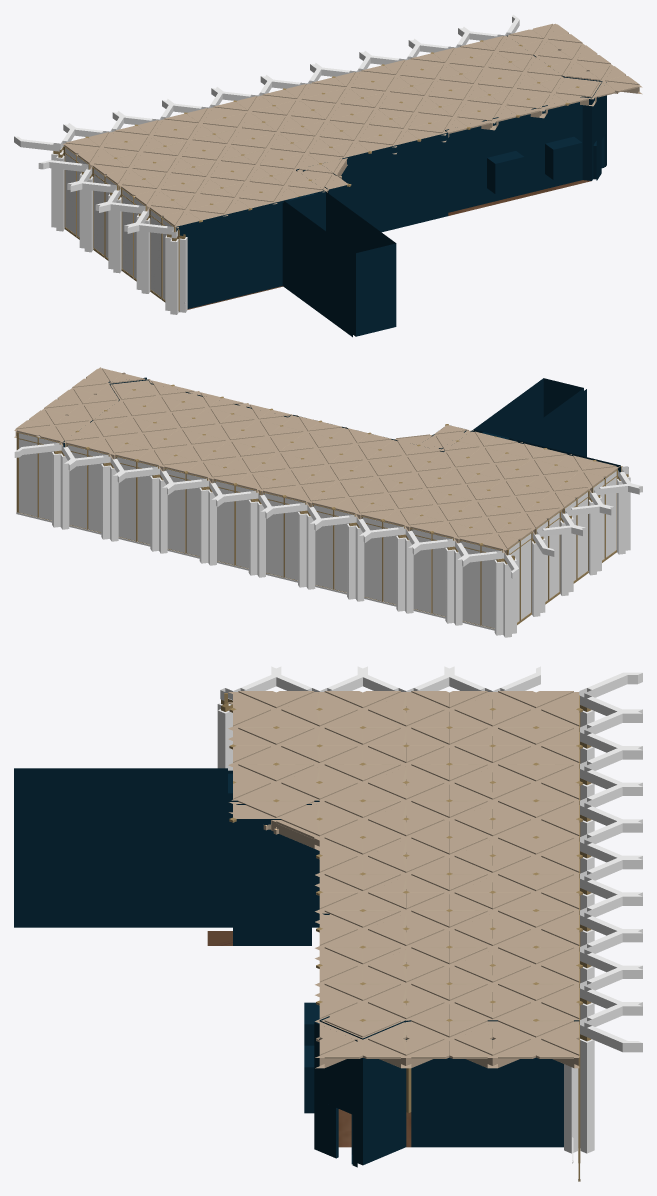
Rendered from ChanceryRosewood-Pavilion-V1.glb.
3 views of the same model, one above another, from view 1: azimuth 30°, elevation 25°; view 2: azimuth 150°, elevation 25°; view 3: azimuth 270°, elevation 25° (orthographic). The views are drawn at different scales.
Parts seen in each view (by area): view 1: WEST PAVILLION; view 2: WEST PAVILLION; view 3: WEST PAVILLION.
Boxes of the visible parts, x1,y1,x2,y2 form: WEST PAVILLION: [14, 14, 642, 337]; WEST PAVILLION: [14, 367, 642, 637]; WEST PAVILLION: [14, 666, 642, 1181].
Bounding box in the file's own units: 36.5 × 5.51 × 24.7.
Materials: 15 (1 with a texture image).
